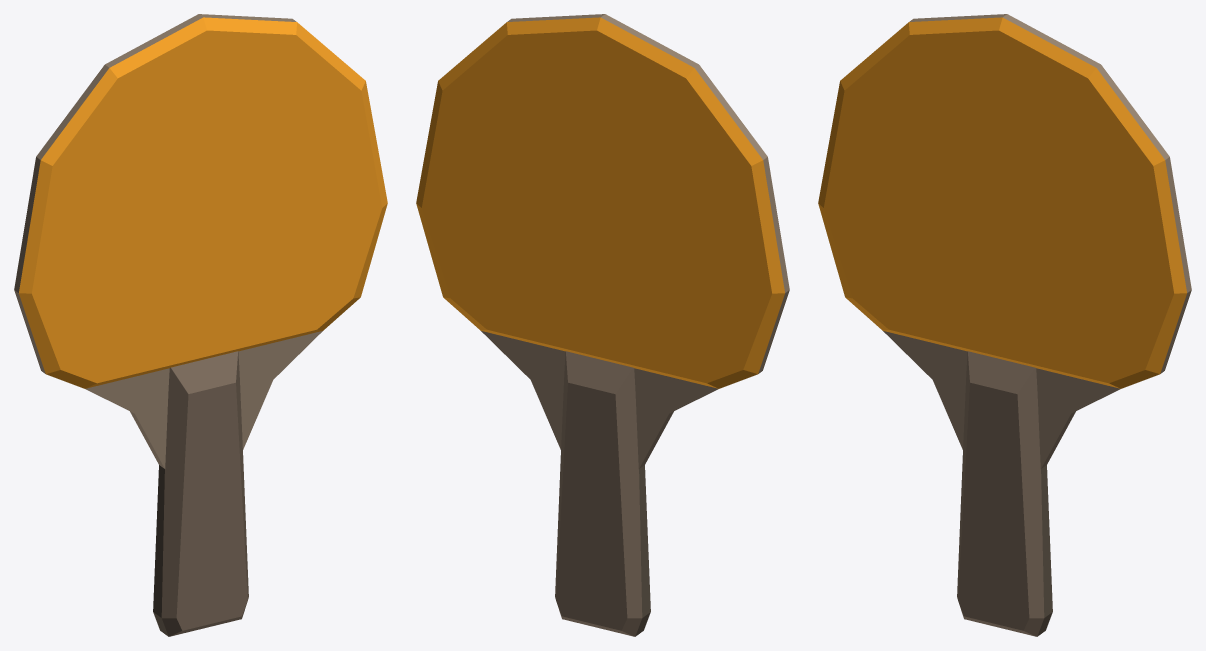
Rendered from SM_Prop_TableTennis_Paddle_01.fbx.
3 renders of one model, left to right at view 1: azimuth 30°, elevation 25°; view 2: azimuth 150°, elevation 25°; view 3: azimuth 330°, elevation 25°, orthographic.
Parts seen in each view (by area): view 1: SM_Prop_TableTennis_Paddle_01; view 2: SM_Prop_TableTennis_Paddle_01; view 3: SM_Prop_TableTennis_Paddle_01.
Part boxes in pixels (box(x1,y1,x2,y2)): SM_Prop_TableTennis_Paddle_01: box(14, 14, 387, 636); SM_Prop_TableTennis_Paddle_01: box(416, 14, 789, 636); SM_Prop_TableTennis_Paddle_01: box(818, 14, 1191, 636).
Size of the model in its own units: 24.34 by 38.4 by 2.57.
